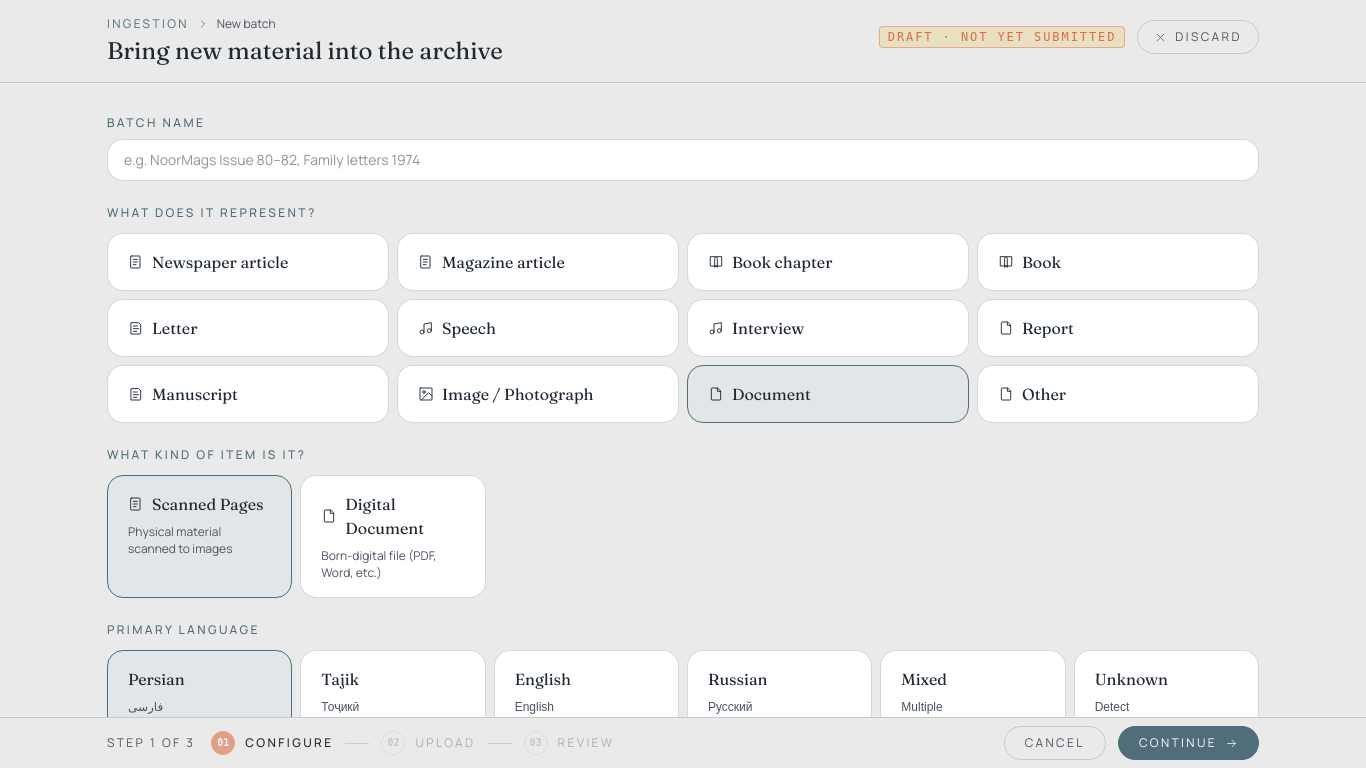
Scenario: /ingestion/new +page.svelte localization › enables the exact preset set for document
Click the text "Digital Document". click: point(385, 516)
box: [345,494,424,538]
(page scrolled)
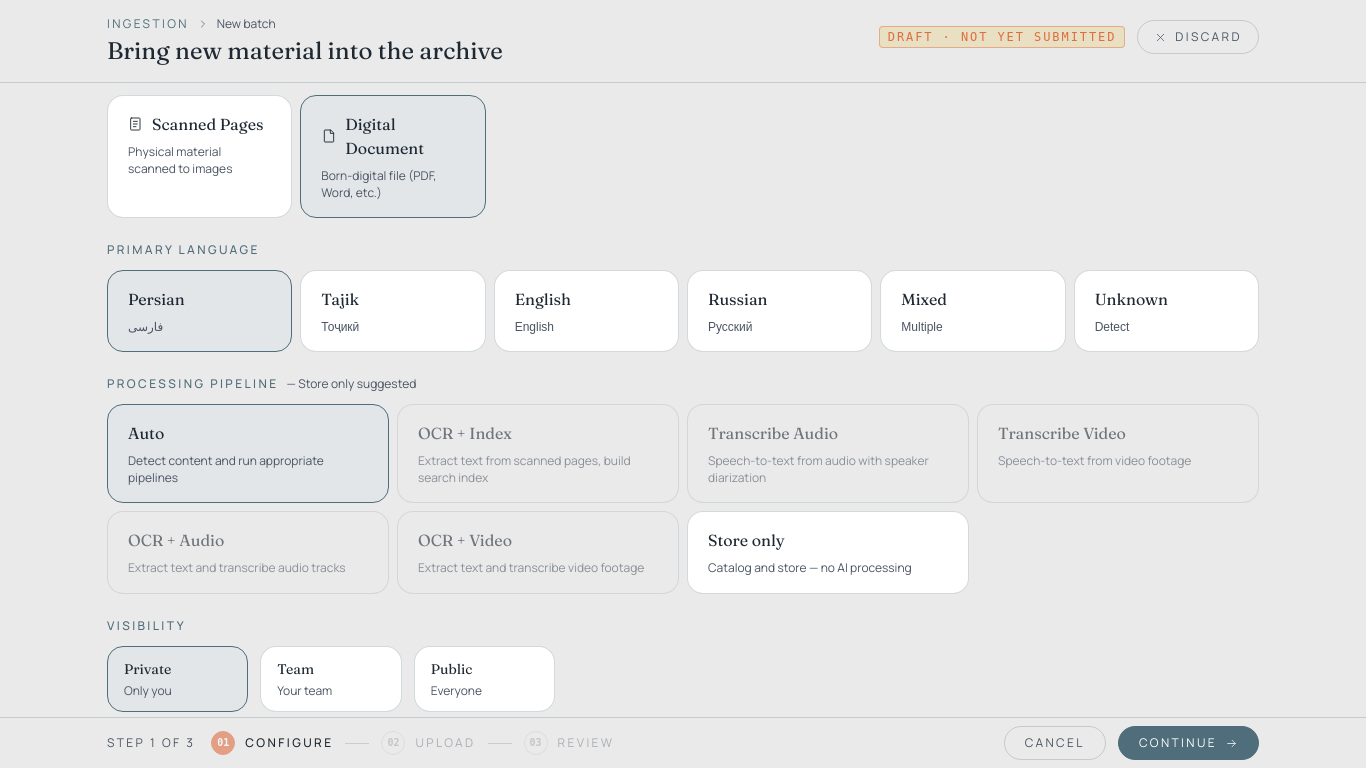
Expected: the button "Auto Detect content and run appropriate pipelines" is enabled, [107,404,389,503]
Now the button that starts with "OCR + Index" is disabled, box [397,404,679,503]
